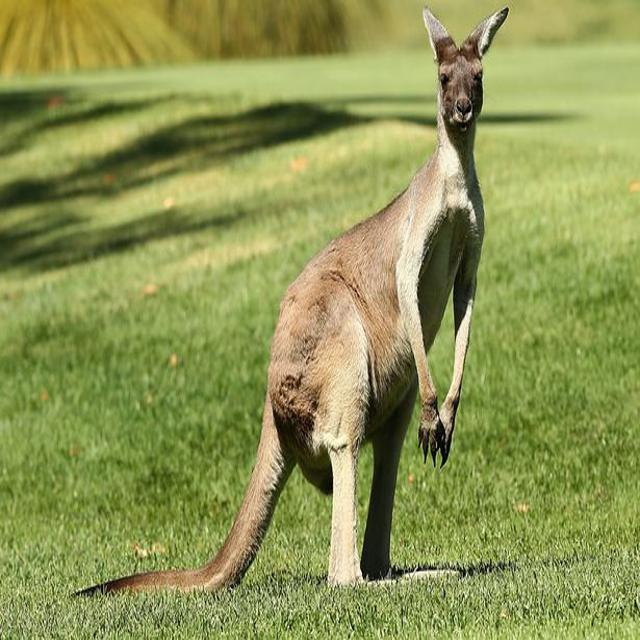kangaroo: (88, 7, 515, 601)
